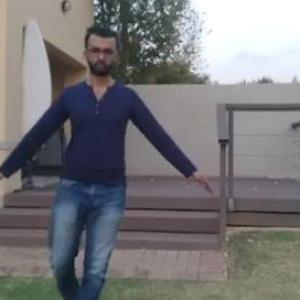land: (1, 32, 186, 299)
